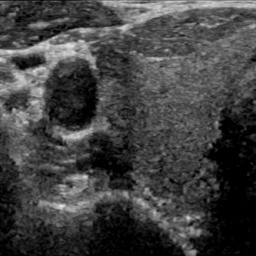mass: (90, 39, 130, 82)
